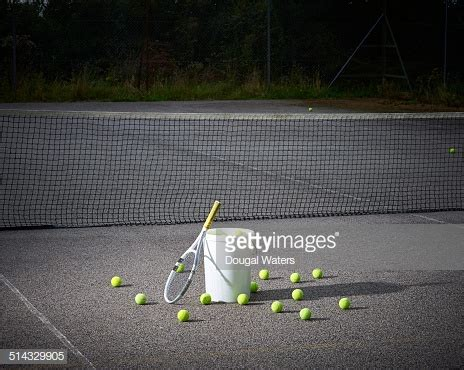tennis_ball: (134, 292, 147, 305), (199, 292, 212, 305), (110, 275, 122, 288), (177, 309, 189, 322), (292, 288, 304, 301), (299, 307, 311, 320), (338, 297, 351, 309), (271, 300, 283, 312), (237, 292, 248, 305), (258, 268, 269, 279), (290, 271, 300, 282), (312, 268, 322, 278), (250, 281, 258, 292), (177, 262, 183, 273)
